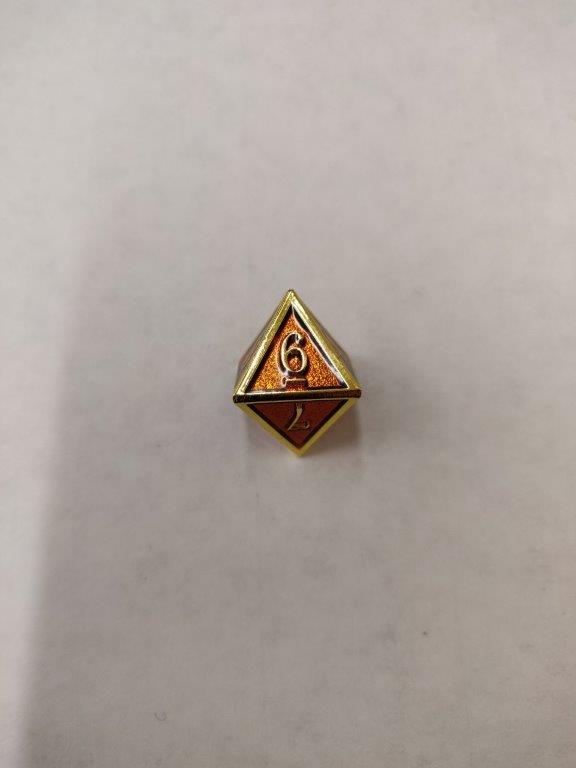d8-6: (227, 287, 362, 456)
